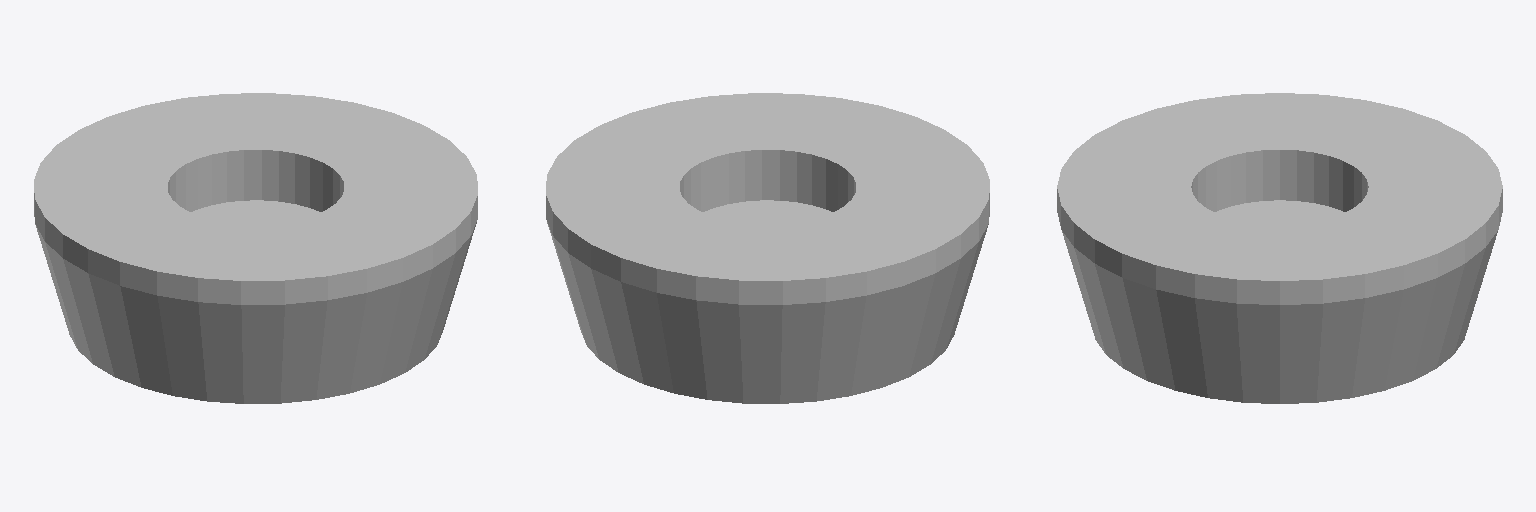
Rendered from HellWaterfallCircleRotateStep.obj.
The picture shows the model from 3 angles: view 1: azimuth 30°, elevation 25°; view 2: azimuth 150°, elevation 25°; view 3: azimuth 270°, elevation 25°; orthographic projection.
Visible parts, largest first — view 1: Circle, Circle.001_Circle.003; view 2: Circle, Circle.001_Circle.003; view 3: Circle, Circle.001_Circle.003.
Boxes of the visible parts, <box> form: Circle: <box>34,93,477,403</box>; Circle.001_Circle.003: <box>191,200,320,223</box>; Circle: <box>546,93,989,403</box>; Circle.001_Circle.003: <box>703,200,832,223</box>; Circle: <box>1057,93,1502,403</box>; Circle.001_Circle.003: <box>1215,200,1344,224</box>.
Bounding box in the file's own units: 3051 × 1041 × 3051.